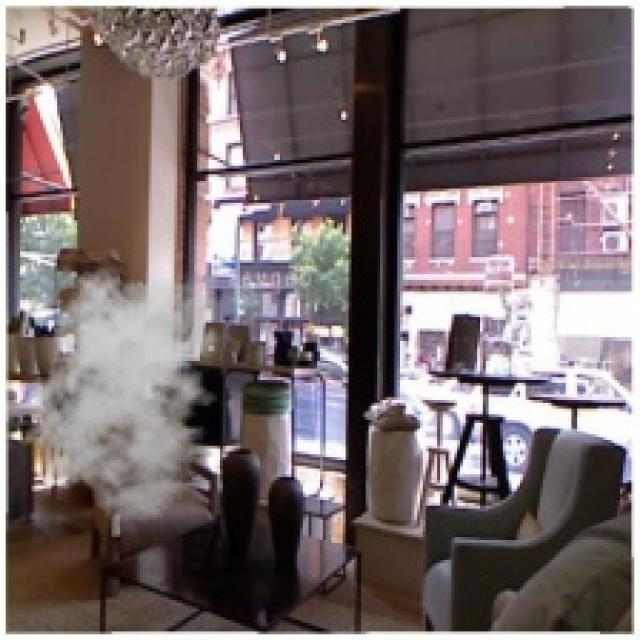Smoke: (22, 260, 232, 523)
